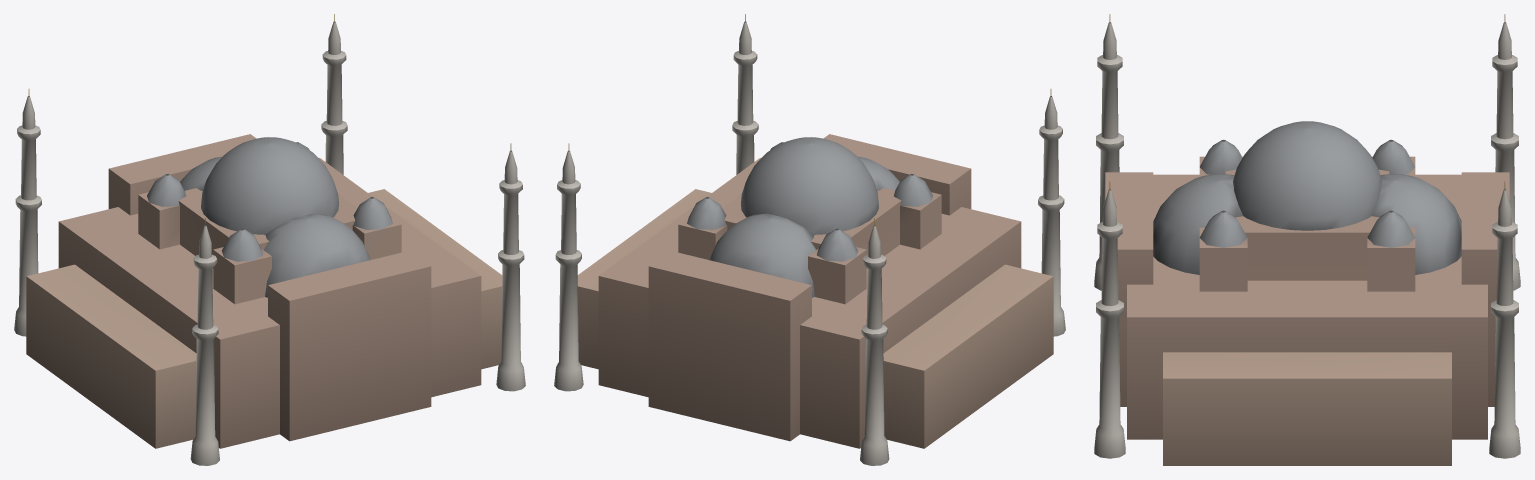
Rendered from hagia.glb.
The picture shows the model from 3 angles, left to right: view 1: azimuth 30°, elevation 25°; view 2: azimuth 150°, elevation 25°; view 3: azimuth 270°, elevation 25°; orthographic projection. The views are drawn at different scales.
Parts seen in each view (by area): view 1: lack; view 2: lack; view 3: lack.
Boxes of the visible parts, x1,y1,x2,y2 form: lack: [14, 14, 525, 465]; lack: [554, 14, 1065, 465]; lack: [1094, 14, 1520, 465].
Bounding box in the file's own units: 96 × 62 × 88.56.
